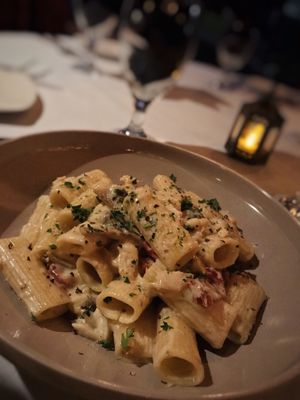curry: (1, 19, 300, 398)
sandwich: (1, 167, 272, 391), (116, 38, 176, 139), (116, 45, 153, 139)
